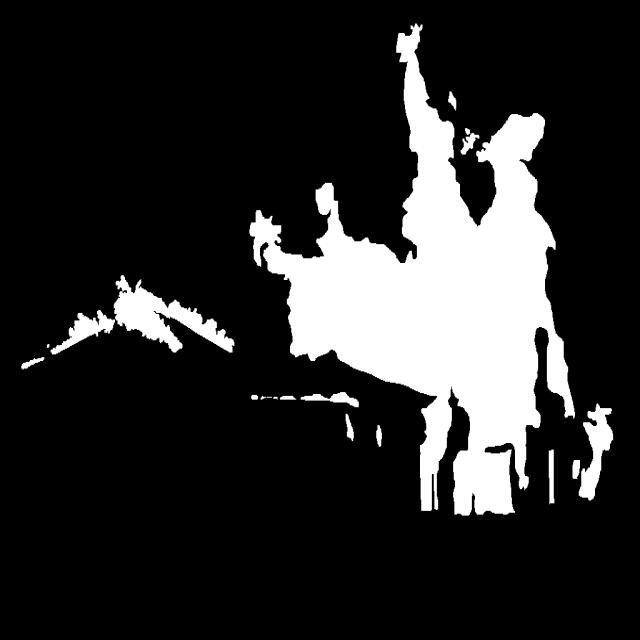fire: (225, 62, 640, 541), (17, 286, 237, 406)
